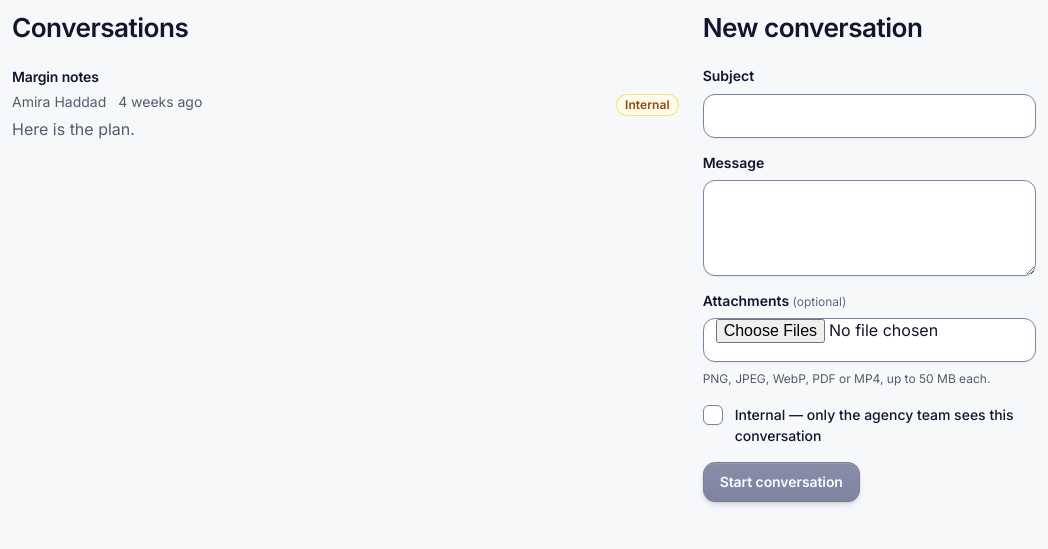
it: MessagesPanel internal threads › lets staff start an internal conversation and marks internal threads
The image size is (1048, 549).
Expected: the text "Internal" is shown, 616,94 -> 679,116
In the field labelled "Subject": (869, 116) 703,94 -> 1036,138, type "Pricing strategy"
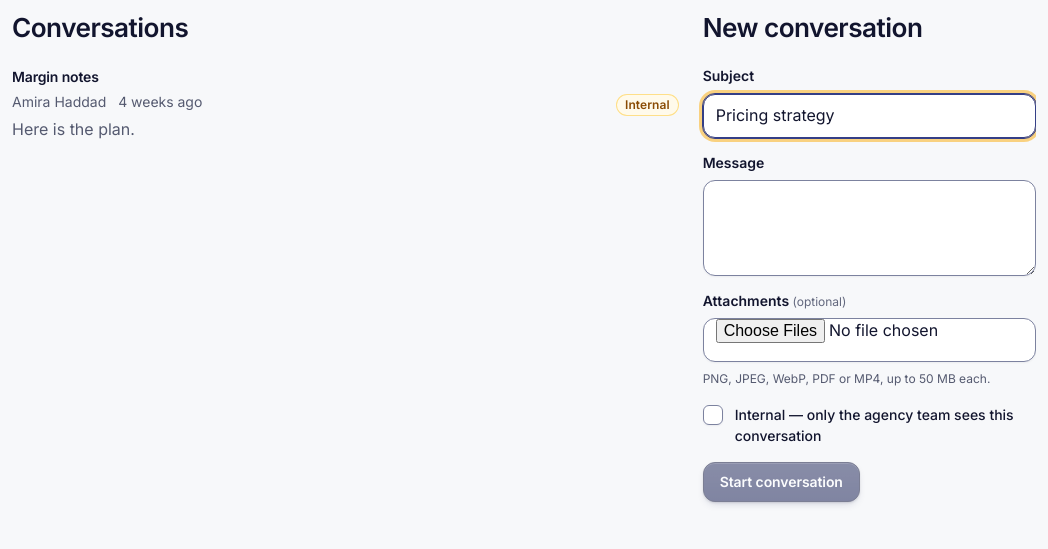
In the text box labelled "Message": (869, 228) 703,180 -> 1036,276, type "Keep this between us."
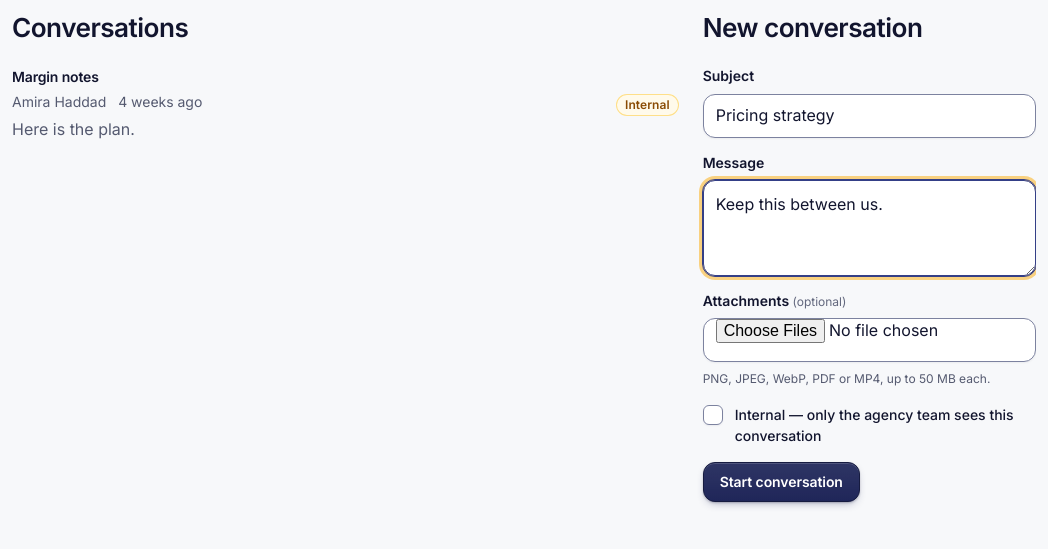
Click the checkbox labelled "Internal — only the agency team sees this conversation": (713, 415) 703,405 -> 723,425
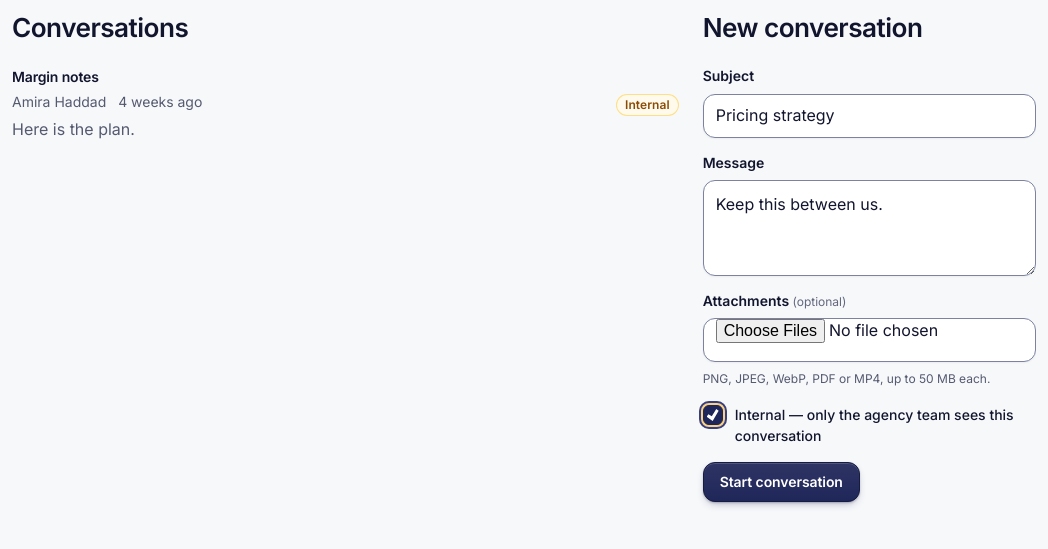
Click the button "Start conversation": (781, 482) 703,462 -> 860,502
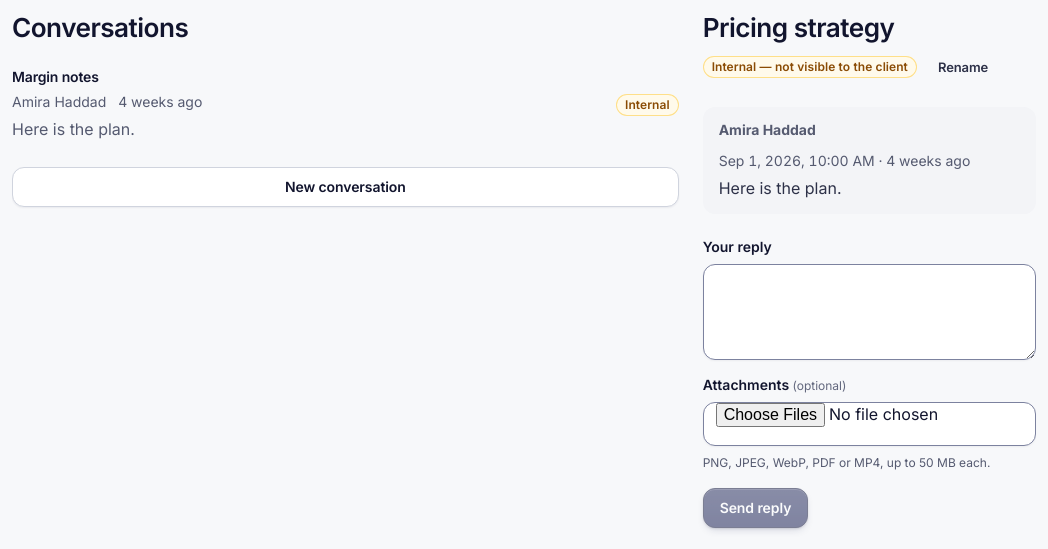
Expected: the text "Internal — not visible to the client" is shown, 703,56 -> 917,78
